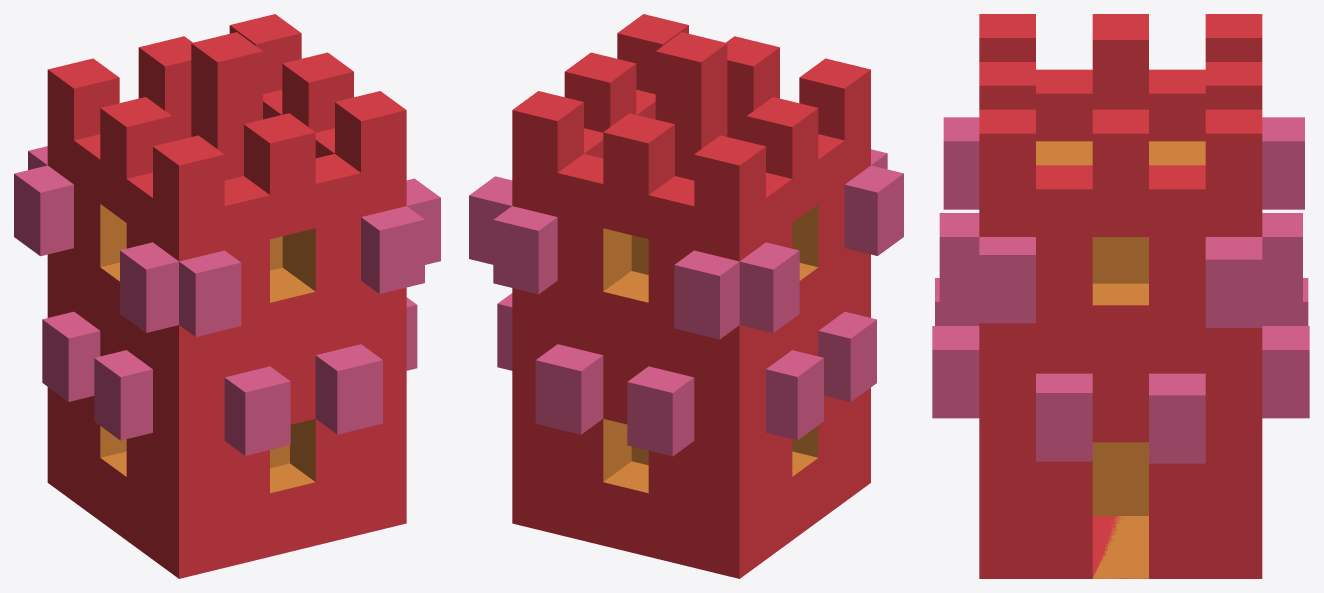
The model's file is mainbase.fbx.
3 views of the same model, side by side, from view 1: azimuth 30°, elevation 25°; view 2: azimuth 150°, elevation 25°; view 3: azimuth 270°, elevation 25° (orthographic). The views are drawn at different scales.
Visible parts, largest first — view 1: Cube; view 2: Cube; view 3: Cube.
Boxes of the visible parts, box(x1,y1,x2,y2) form: Cube: box(14, 14, 440, 578); Cube: box(469, 14, 903, 578); Cube: box(932, 14, 1309, 578).
Size of the model in its own units: 8.03 by 8 by 11.49.
